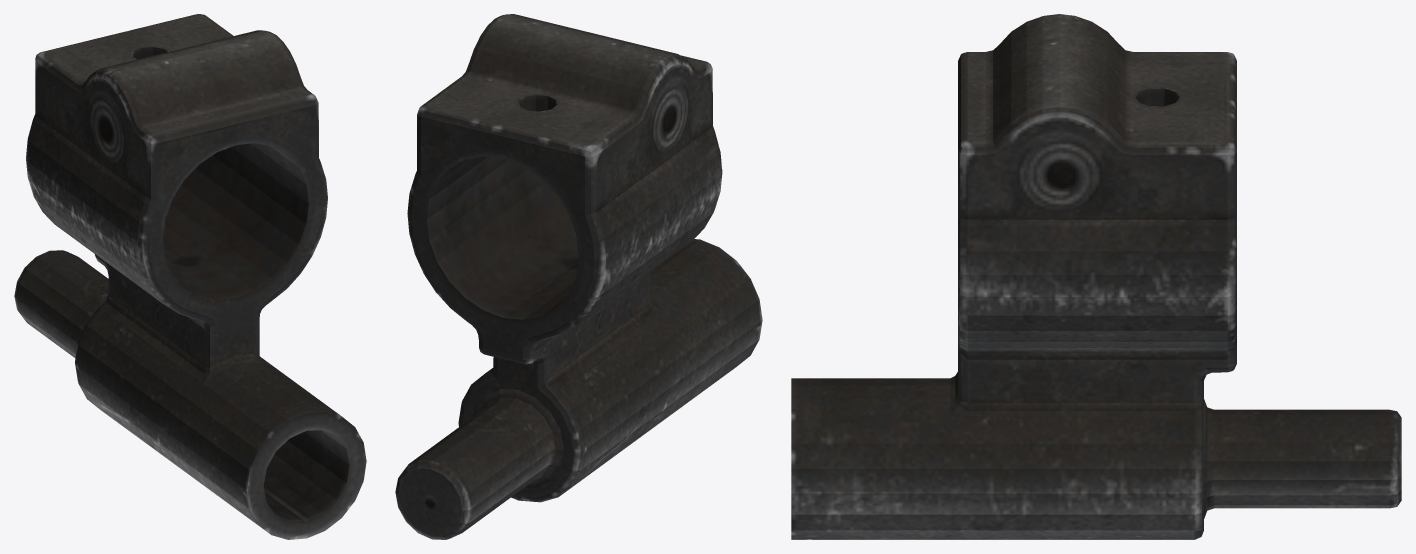
The picture shows the model from 3 angles, left to right: view 1: azimuth 30°, elevation 25°; view 2: azimuth 150°, elevation 25°; view 3: azimuth 270°, elevation 25°; orthographic projection. The views are drawn at different scales.
Parts seen in each view (by area): view 1: TW_622b327b267a1b13a44abea3_PZ_Import; view 2: TW_622b327b267a1b13a44abea3_PZ_Import; view 3: TW_622b327b267a1b13a44abea3_PZ_Import.
Boxes of the visible parts, x1,y1,x2,y2 form: TW_622b327b267a1b13a44abea3_PZ_Import: [14, 14, 366, 539]; TW_622b327b267a1b13a44abea3_PZ_Import: [395, 14, 762, 539]; TW_622b327b267a1b13a44abea3_PZ_Import: [791, 14, 1401, 539].
Bounding box in the file's own units: 0.0125 × 0.0296 × 0.0253.
Materials: 1 (1 with a texture image).
